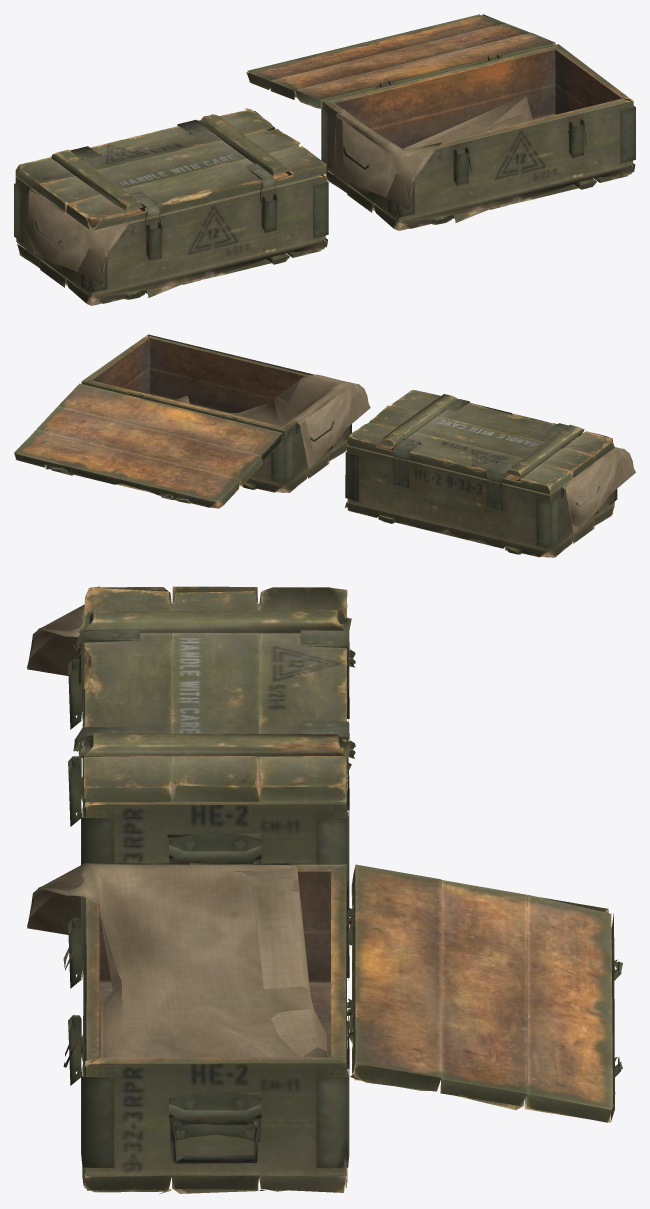
File: old_military_crate.glb
The picture shows the model from 3 angles, top to bottom: view 1: azimuth 30°, elevation 25°; view 2: azimuth 150°, elevation 25°; view 3: azimuth 270°, elevation 25°; orthographic projection. The views are drawn at different scales.
Parts seen in each view (by area): view 1: CC0_old_military_crate; view 2: CC0_old_military_crate; view 3: CC0_old_military_crate.
Boxes of the visible parts, x1=… form: CC0_old_military_crate: x1=14, y1=14, x2=635, y2=305; CC0_old_military_crate: x1=14, y1=334, x2=635, y2=557; CC0_old_military_crate: x1=27, y1=586, x2=622, y2=1194.
Bounding box in the file's own units: 1.81 × 0.3005 × 0.9735.
1 material, 1 textured.
